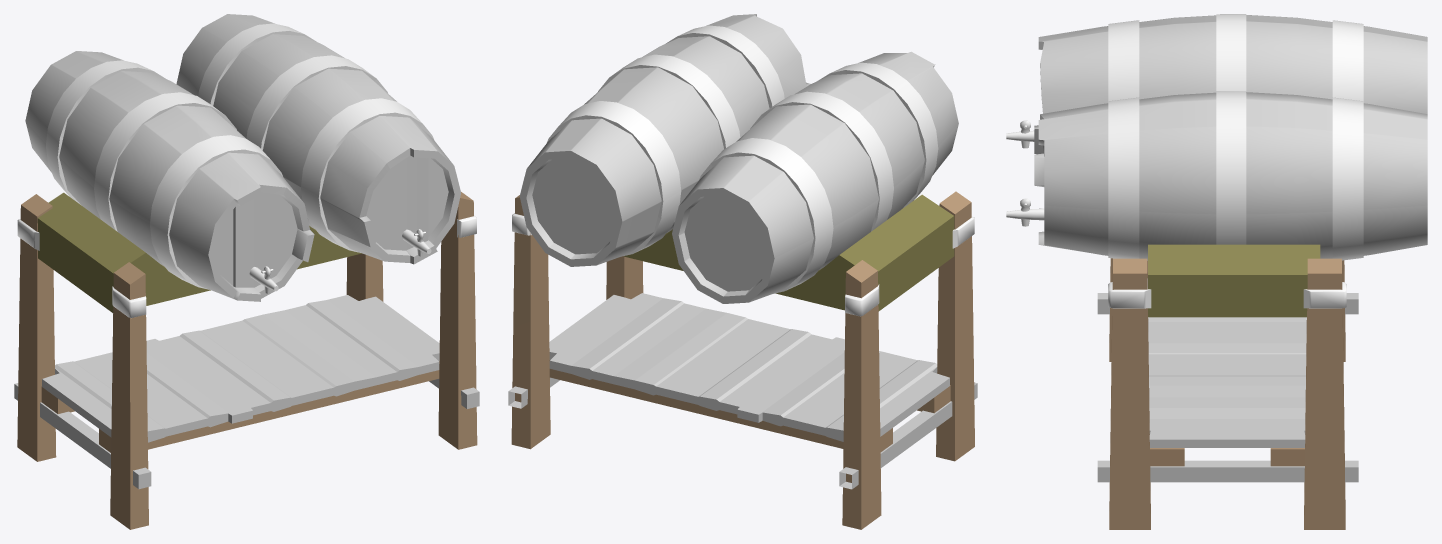
File: barrel_rack.glb
The picture shows the model from 3 angles, left to right: view 1: azimuth 30°, elevation 25°; view 2: azimuth 150°, elevation 25°; view 3: azimuth 270°, elevation 25°; orthographic projection. The views are drawn at different scales.
Parts seen in each view (by area): view 1: Barrel_Holder; view 2: Barrel_Holder; view 3: Barrel_Holder.
Boxes of the visible parts, x1,y1,x2,y2 form: Barrel_Holder: [14, 14, 479, 529]; Barrel_Holder: [508, 14, 977, 529]; Barrel_Holder: [1006, 14, 1427, 529].
Size of the model in its own units: 1 by 1 by 1.
